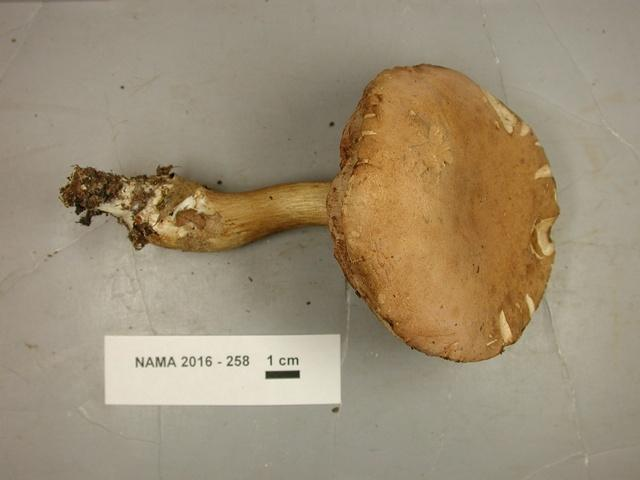poisonous_mushroom: (58, 61, 561, 363)
